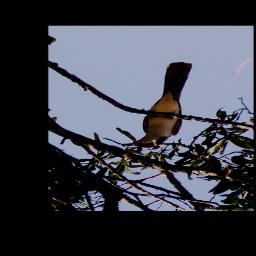Cuckoo: (122, 60, 196, 148)
